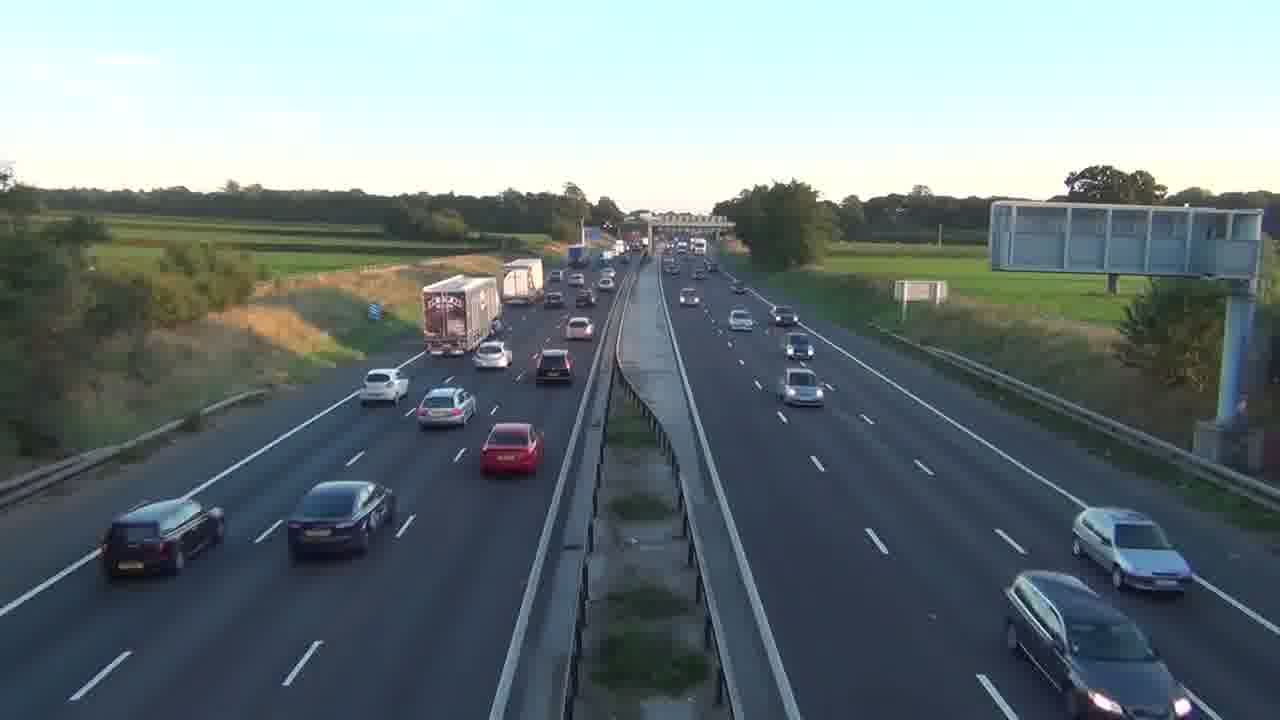car: (1002, 569, 1195, 718), (1070, 505, 1192, 597), (287, 479, 397, 560), (479, 421, 545, 478), (415, 387, 475, 430), (780, 366, 827, 407), (360, 367, 408, 406), (534, 348, 574, 385), (472, 339, 512, 369), (562, 315, 594, 340)
truck: (101, 497, 226, 581), (419, 273, 503, 355), (500, 258, 544, 305)
